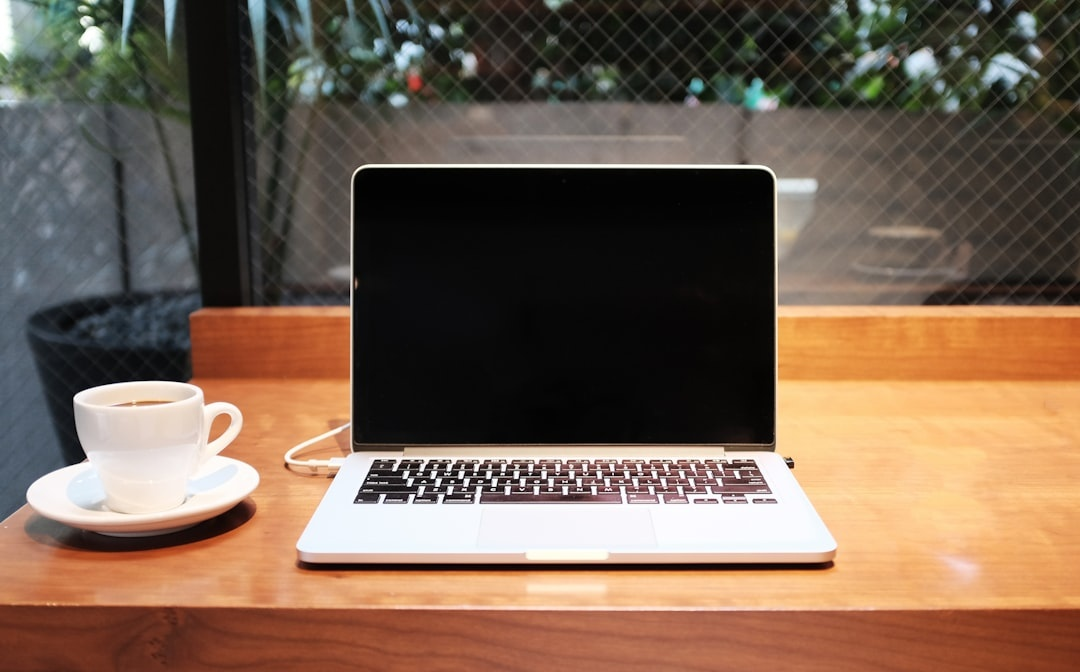laptop: (274, 135, 871, 586)
